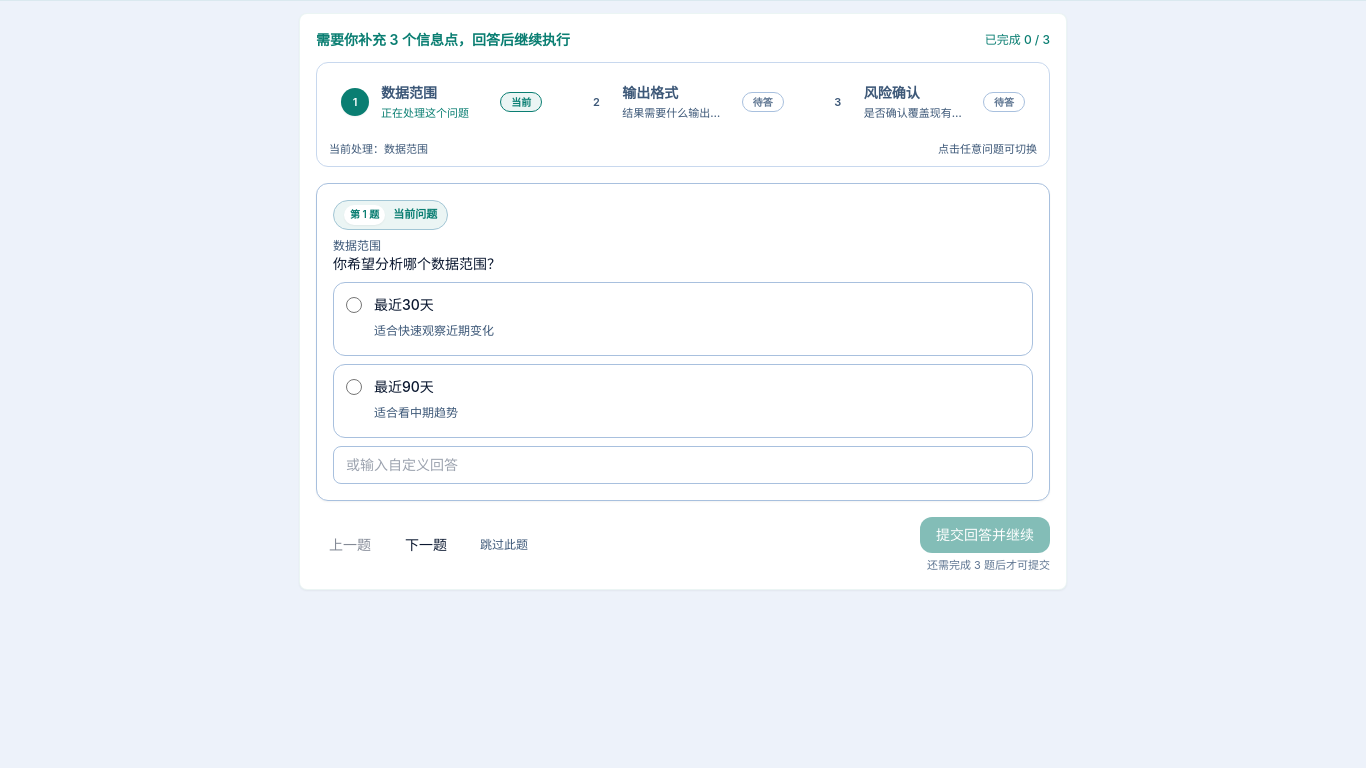
Test: AskUserQuestionPanel › 应使用换行 tab 并且一次只展示一个问题
Expected: the text "当前处理：数据范围" is shown, [329,141,428,158]
Expected: the text "你希望分析哪个数据范围？" is shown, [333,254,501,272]
Click the tab "2 输出格式 结果需要什么输出格式？ 待答" at (683, 102), box [566,71,800,133]
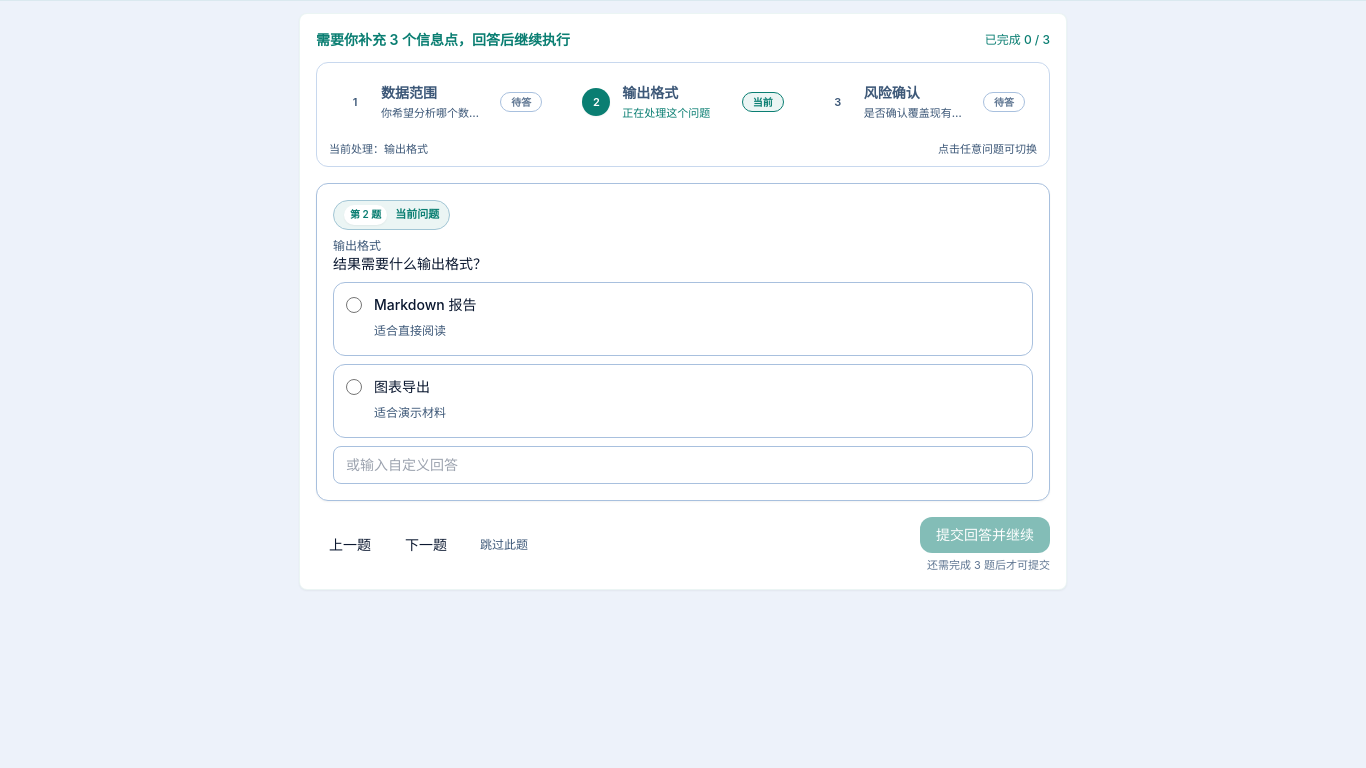
Result: the text "当前处理：输出格式" is shown at [329,141,428,158]
Result: the text "结果需要什么输出格式？" is shown at [333,254,487,272]
